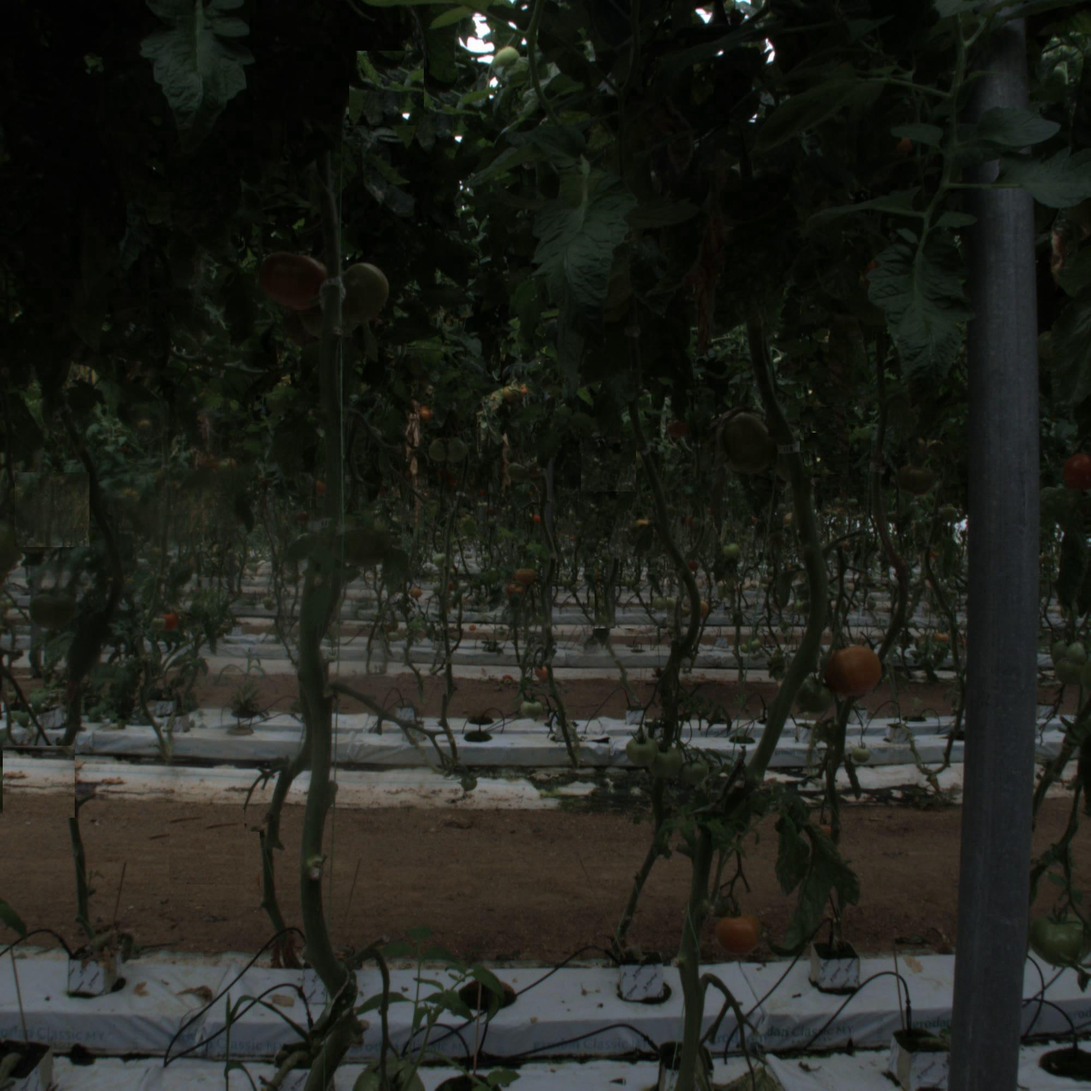fully-ripe: (262, 243, 327, 309), (823, 641, 879, 698), (717, 913, 759, 955)
unripe: (717, 409, 782, 475), (331, 264, 388, 321), (1033, 909, 1090, 966)
